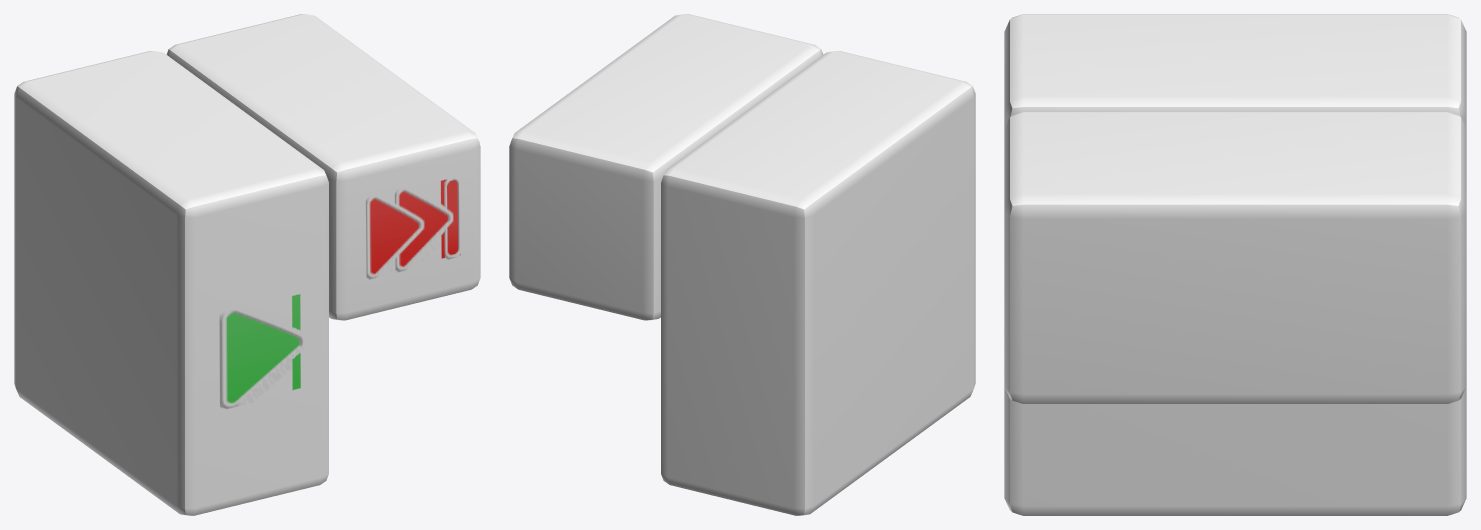
File: TutorialCube.fbx
3 renders of one model, left to right at view 1: azimuth 30°, elevation 25°; view 2: azimuth 150°, elevation 25°; view 3: azimuth 270°, elevation 25°, orthographic. The views are drawn at different scales.
Parts seen in each view (by area): view 1: Half1, Fourth1; view 2: Half1, Fourth1; view 3: Fourth1, Half1.
Part boxes in pixels (x1,y1,x2,y2): Half1: (14,51,328,515); Fourth1: (166,14,480,320); Half1: (661,51,975,515); Fourth1: (509,14,823,320); Fourth1: (1004,111,1466,403); Half1: (1004,14,1466,515).
Bounding box in the file's own units: 0.2644 × 0.2644 × 0.2644.
Materials: 1 (1 with a texture image).
